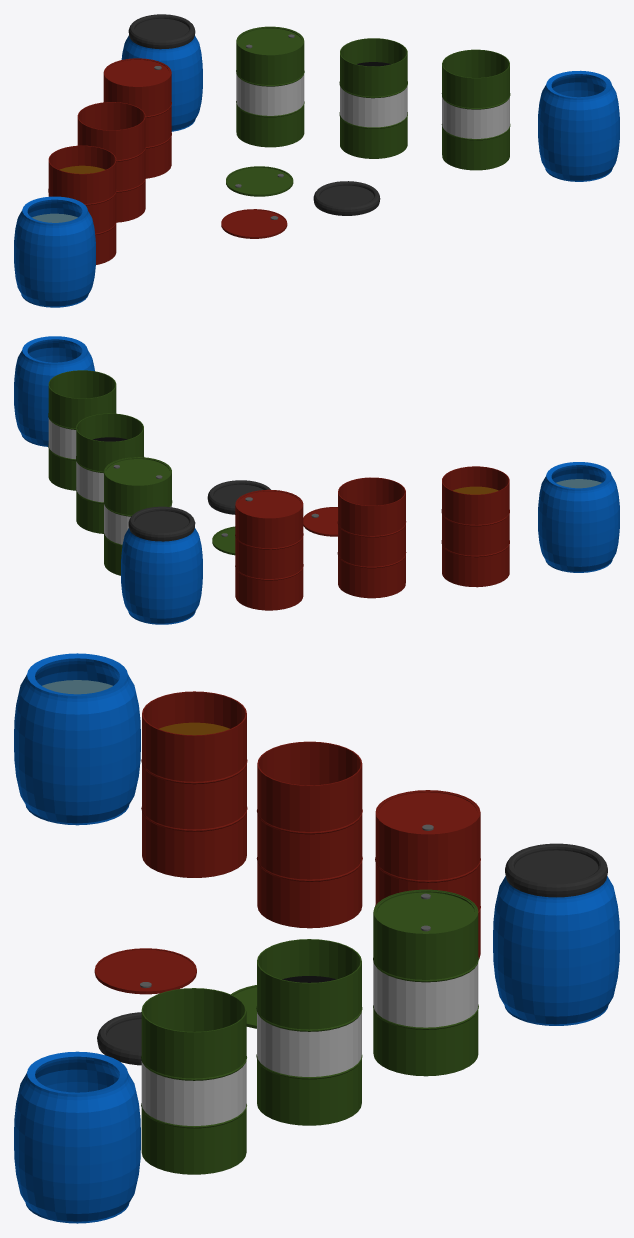
File: barrels.fbx
The picture shows the model from 3 angles, top to bottom: view 1: azimuth 30°, elevation 25°; view 2: azimuth 150°, elevation 25°; view 3: azimuth 270°, elevation 25°; orthographic projection. The views are drawn at different scales.
Parts seen in each view (by area): view 1: openPlasticBarrel, emptyPlasticBarrel, oilBarrel, emptyOilBarrel, openOilBarrel, plasticBarrel, emptyFuelBarrel, openFuelBarrel, fuelBarrel, lidPlasticBarrel, lidOilBarrel, lidFuelBarrel; view 2: plasticBarrel, openPlasticBarrel, fuelBarrel, emptyFuelBarrel, openFuelBarrel, emptyOilBarrel, openOilBarrel, emptyPlasticBarrel, oilBarrel, lidPlasticBarrel, lidFuelBarrel, lidOilBarrel; view 3: plasticBarrel, openPlasticBarrel, emptyPlasticBarrel, oilBarrel, emptyOilBarrel, emptyFuelBarrel, openOilBarrel, openFuelBarrel, fuelBarrel, lidFuelBarrel, lidPlasticBarrel.
Part boxes in pixels (x1,y1,x2,y2): openPlasticBarrel: (14, 196, 95, 307); emptyPlasticBarrel: (538, 70, 619, 181); oilBarrel: (236, 26, 304, 147); emptyOilBarrel: (441, 49, 510, 170); openOilBarrel: (339, 38, 407, 158); plasticBarrel: (121, 14, 202, 131); emptyFuelBarrel: (77, 102, 145, 222); openFuelBarrel: (48, 145, 116, 264); fuelBarrel: (103, 58, 171, 178); lidPlasticBarrel: (313, 181, 380, 215); lidOilBarrel: (226, 166, 293, 196); lidFuelBarrel: (221, 209, 287, 238); plasticBarrel: (121, 506, 202, 624); openPlasticBarrel: (538, 462, 619, 572); fuelBarrel: (235, 489, 303, 610); emptyFuelBarrel: (337, 477, 406, 598); openFuelBarrel: (441, 466, 509, 587); emptyOilBarrel: (48, 370, 116, 490); openOilBarrel: (76, 413, 143, 533); emptyPlasticBarrel: (14, 336, 94, 446); oilBarrel: (103, 457, 172, 575); lidPlasticBarrel: (207, 480, 270, 514); lidFuelBarrel: (303, 507, 337, 536); lidOilBarrel: (212, 526, 235, 555); plasticBarrel: (493, 843, 619, 1025); openPlasticBarrel: (14, 653, 140, 825); emptyPlasticBarrel: (14, 1051, 140, 1223); oilBarrel: (373, 889, 478, 1076); emptyOilBarrel: (141, 988, 246, 1174); emptyFuelBarrel: (256, 741, 362, 928); openOilBarrel: (256, 939, 362, 1125); openFuelBarrel: (141, 691, 247, 877); fuelBarrel: (375, 790, 480, 958); lidFuelBarrel: (94, 948, 196, 994); lidPlasticBarrel: (97, 1012, 141, 1065).
Size of the model in its own units: 909 by 135 by 519.
